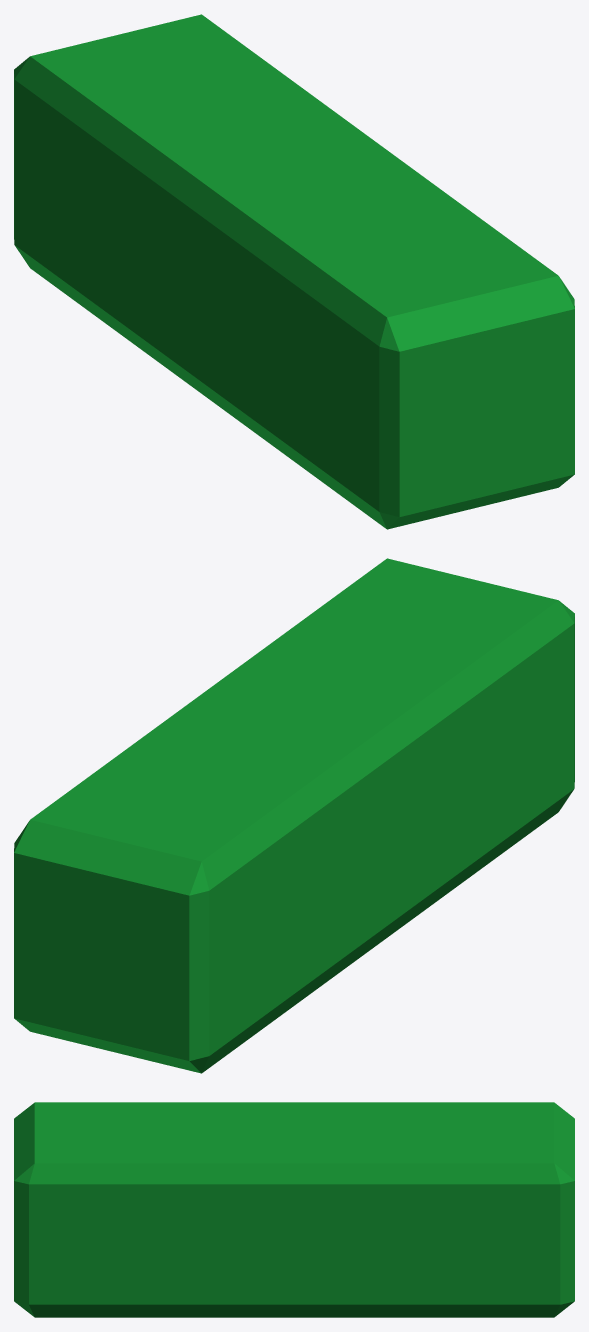
Rendered from BloqueVerde.fbx.
3 views of the same model, one above another, from view 1: azimuth 30°, elevation 25°; view 2: azimuth 150°, elevation 25°; view 3: azimuth 270°, elevation 25° (orthographic). The views are drawn at different scales.
Visible parts, largest first — view 1: Cube; view 2: Cube; view 3: Cube.
Boxes of the visible parts, x1,y1,x2,y2 form: Cube: [14, 14, 574, 529]; Cube: [14, 558, 574, 1073]; Cube: [14, 1102, 574, 1317].
Size of the model in its own units: 111 by 115 by 380.
